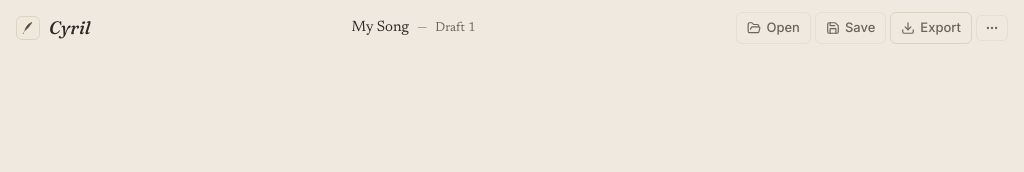
Scenario: T-14.05: Song title and draft name in the top bar are click-to-edit; Enter/blur commits, Escape cancels › T-14.05: Enter on the title input commits the rename
The width and height of the screenshot is (1024, 172).
Click the text with test id "topbar-project-title" at (380, 28), box [352,16,409,39]
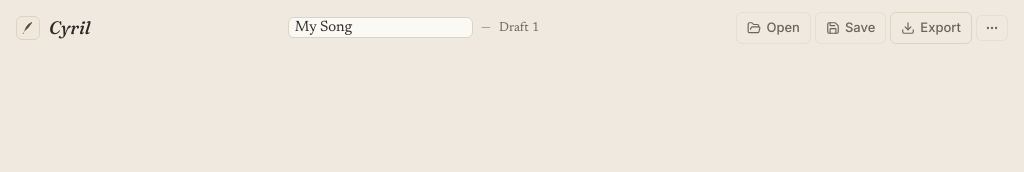
Replace the text in the field with test id "topbar-title-input" with "New Title" at (380, 28), box [288,17,473,38]
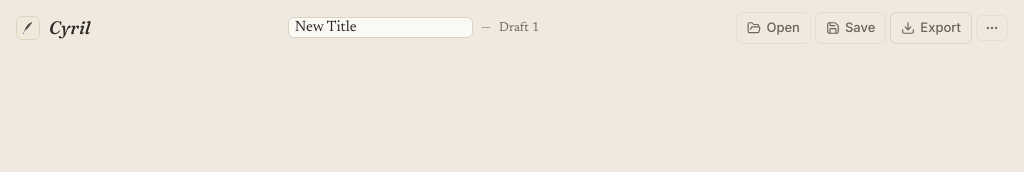
Press Enter in the field with test id "topbar-title-input", box [288,17,473,38]
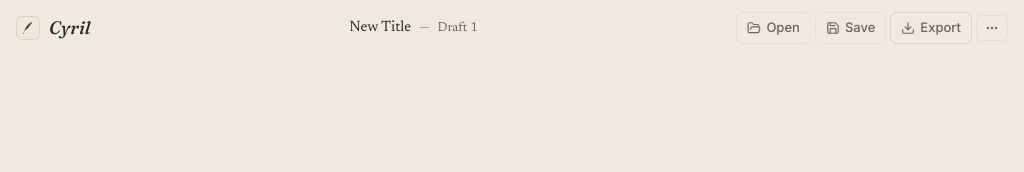
Result: the field with test id "topbar-title-input" is gone
Result: the text with test id "topbar-project-title" reads "New Title" at [349,20,411,34]
